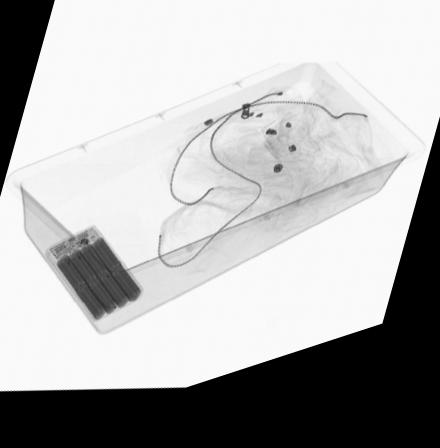Powerbank: (41, 227, 146, 329)
